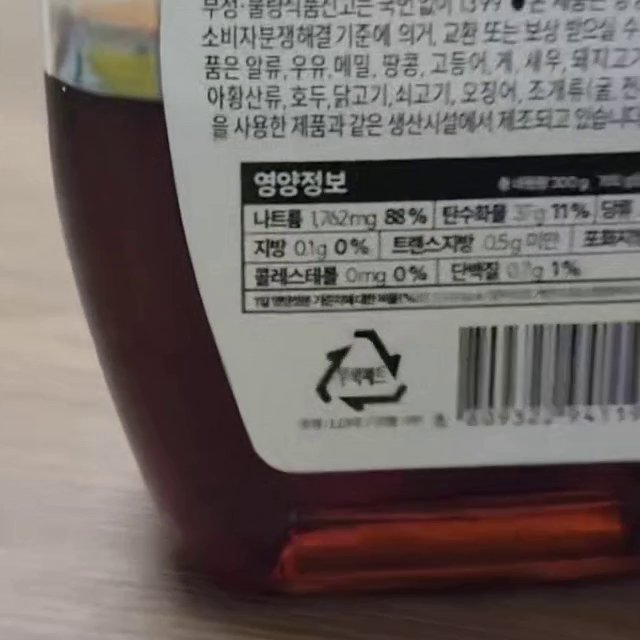ColorlessPet: (316, 327, 407, 413)
